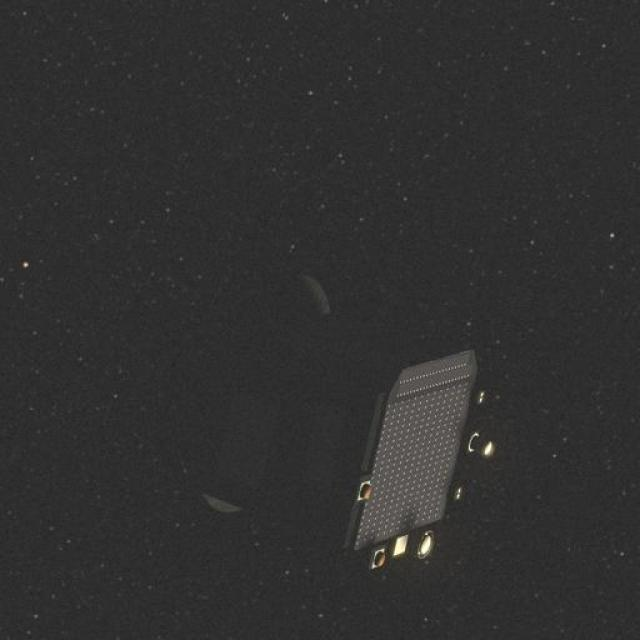proba_3_ocs: (190, 238, 510, 582)
